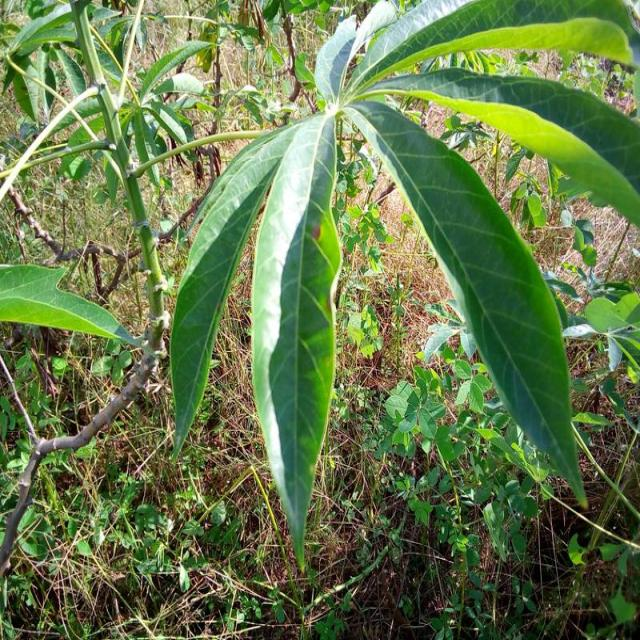cassava leaf: (168, 1, 638, 570), (342, 96, 589, 509), (168, 116, 301, 462), (250, 109, 342, 572), (0, 261, 144, 348)
